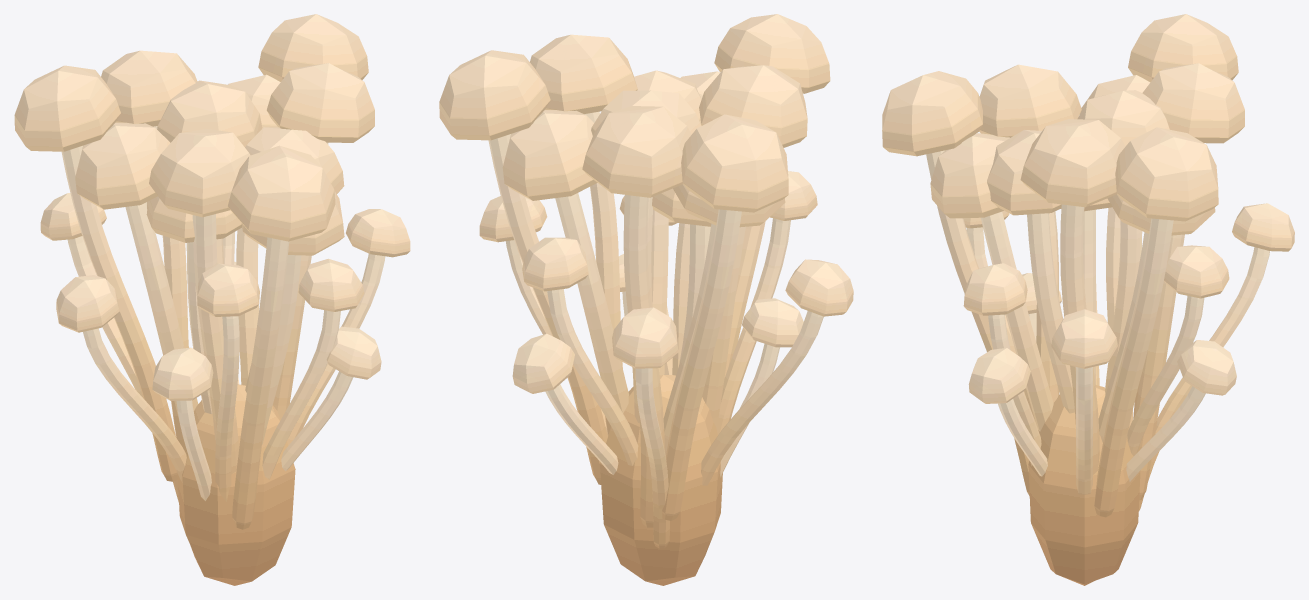
The model's file is Enoki_Bunch.glb.
3 renders of one model, left to right at view 1: azimuth 30°, elevation 25°; view 2: azimuth 150°, elevation 25°; view 3: azimuth 270°, elevation 25°, orthographic. The views are drawn at different scales.
Parts seen in each view (by area): view 1: Cube; view 2: Cube; view 3: Cube.
Boxes of the visible parts, x1=… form: Cube: x1=14, y1=14, x2=410, y2=585; Cube: x1=439, y1=14, x2=853, y2=585; Cube: x1=882, y1=14, x2=1294, y2=585.
Size of the model in its own units: 10.8 by 15.12 by 11.08.
1 material, 1 textured.
